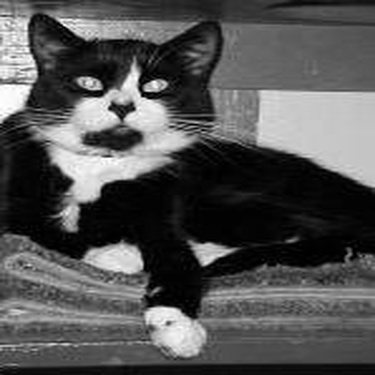cat: (1, 18, 359, 359)
